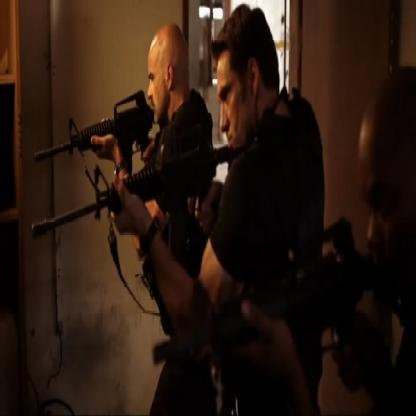Guns: (148, 213, 383, 385), (26, 86, 261, 255)
